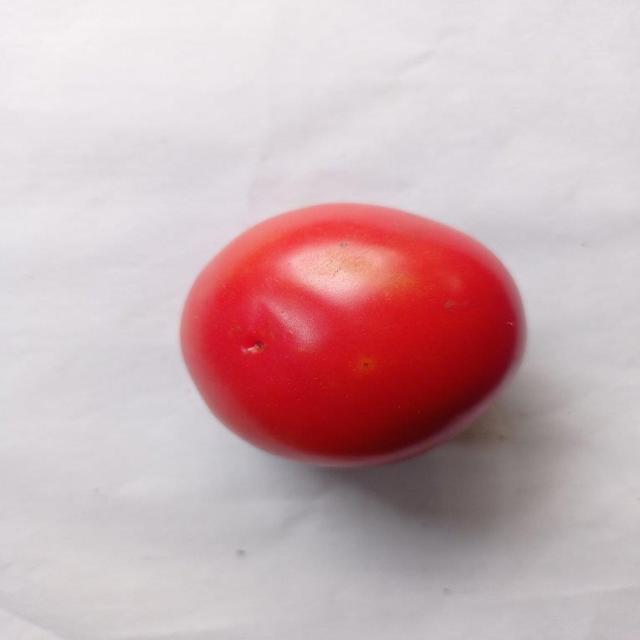Tomato: (170, 198, 533, 475)
